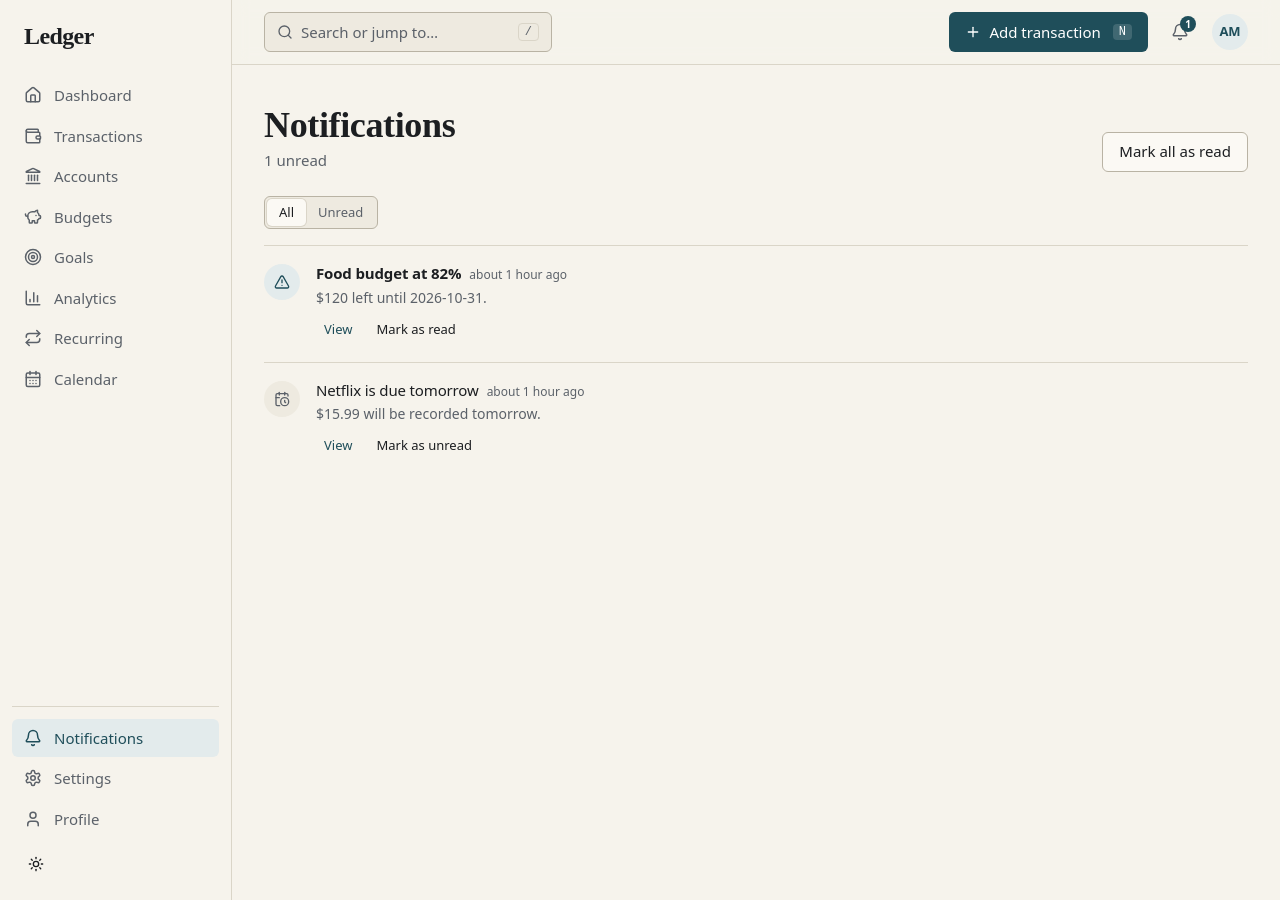
Test: notifications page › marks one as read
Click the button named "Mark \"Food budget at 82%\" as read" at {"x": 416, "y": 330}, box [364,314,468,346]
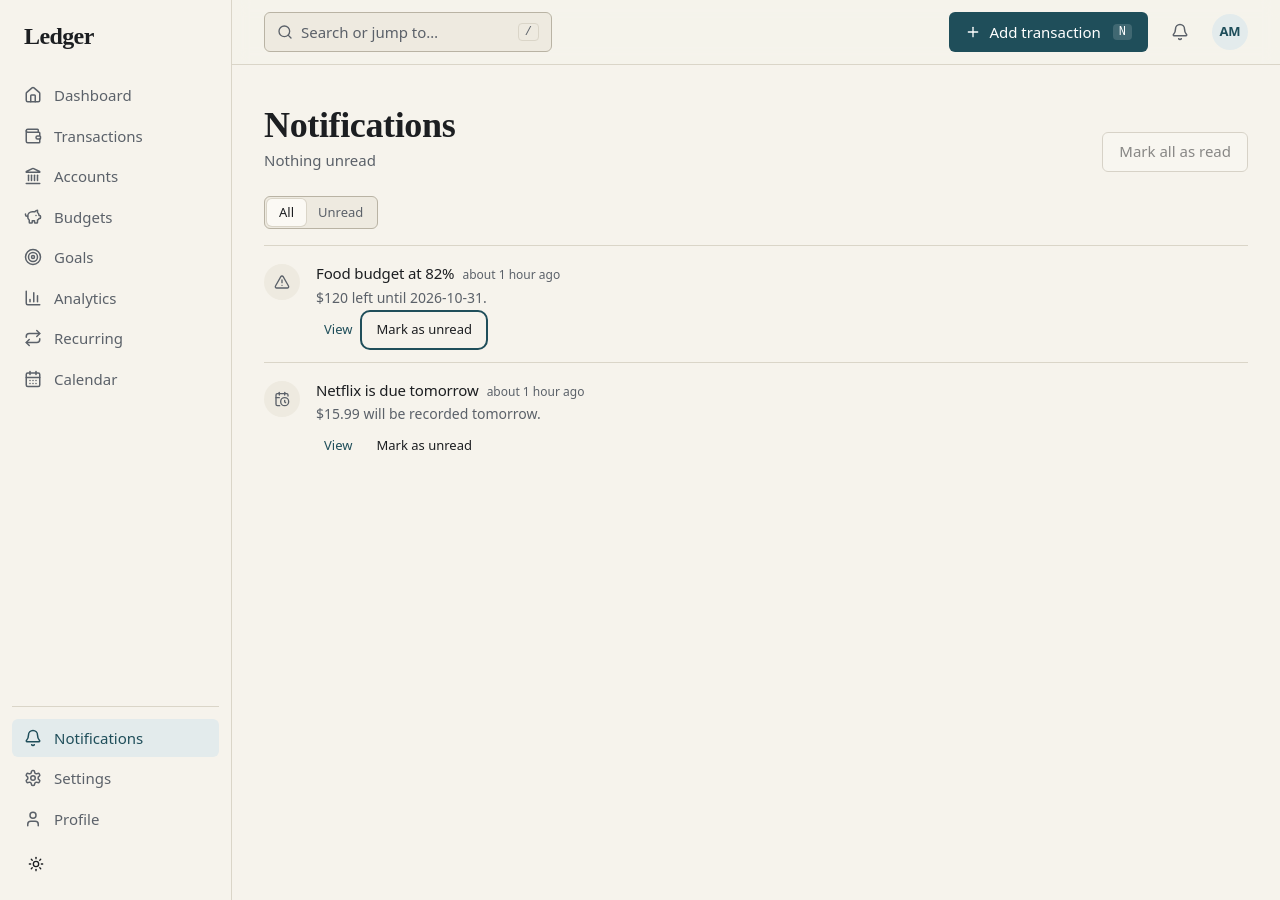
Result: the button named "Mark \"Food budget at 82%\" as unread" is shown at [364,314,484,346]
